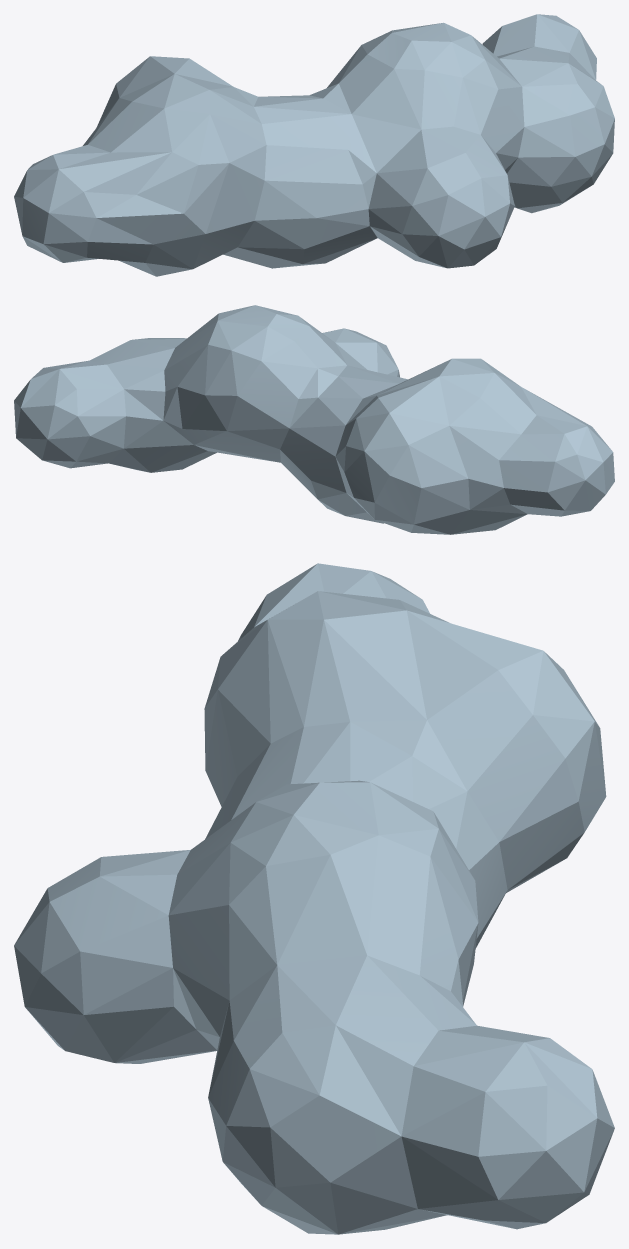
Rendered from medium_cloud_6.fbx.
3 renders of one model, top to bottom at view 1: azimuth 30°, elevation 25°; view 2: azimuth 150°, elevation 25°; view 3: azimuth 270°, elevation 25°, orthographic. The views are drawn at different scales.
Parts seen in each view (by area): view 1: cloud_56; view 2: cloud_56; view 3: cloud_56.
Boxes of the visible parts, x1=… form: cloud_56: x1=14, y1=14, x2=614, y2=276; cloud_56: x1=14, y1=305, x2=614, y2=534; cloud_56: x1=14, y1=563, x2=614, y2=1234.
Bounding box in the file's own units: 564 × 174 × 283.
